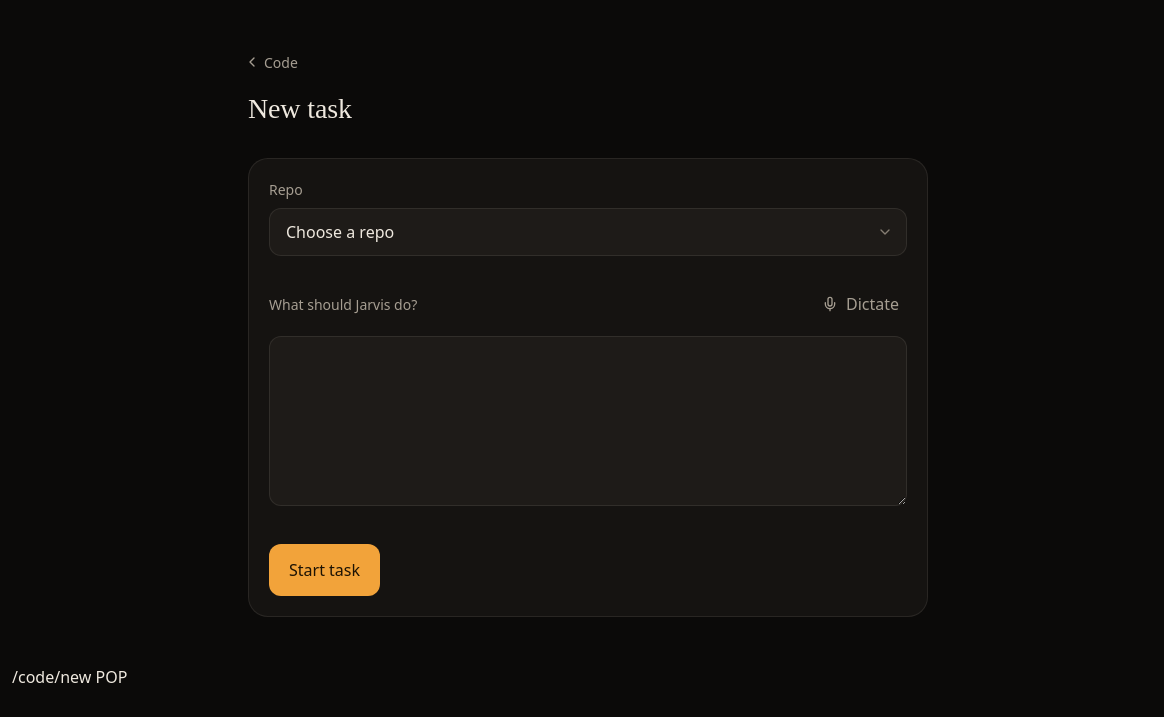
Test: Code: new task › asks for a repo and for instructions before starting anything
The width and height of the screenshot is (1164, 717).
Check: the dropdown labelled "Repo" shows "Choose a repo", box [269, 208, 907, 256]
Step 1. Click the button "Start task" → click(324, 570), box [269, 544, 380, 596]
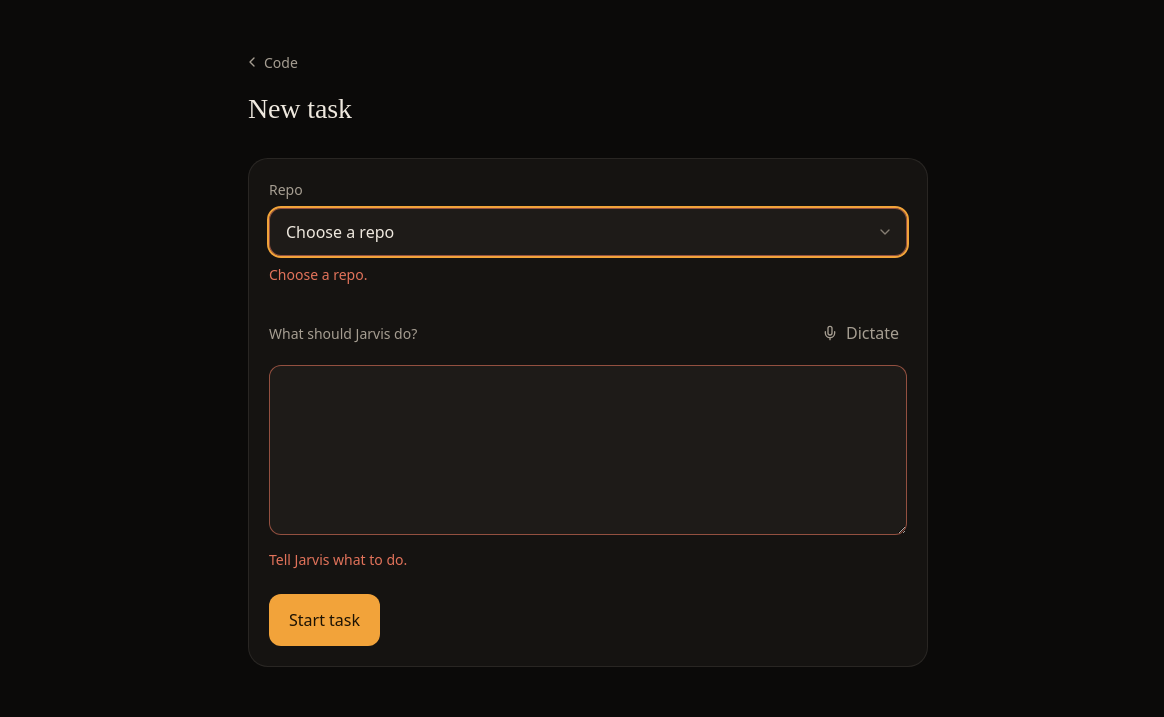
Check: the text "Choose a repo." is shown, box [269, 265, 367, 284]
Check: the text "Tell Jarvis what to do." is shown, box [269, 549, 407, 570]
